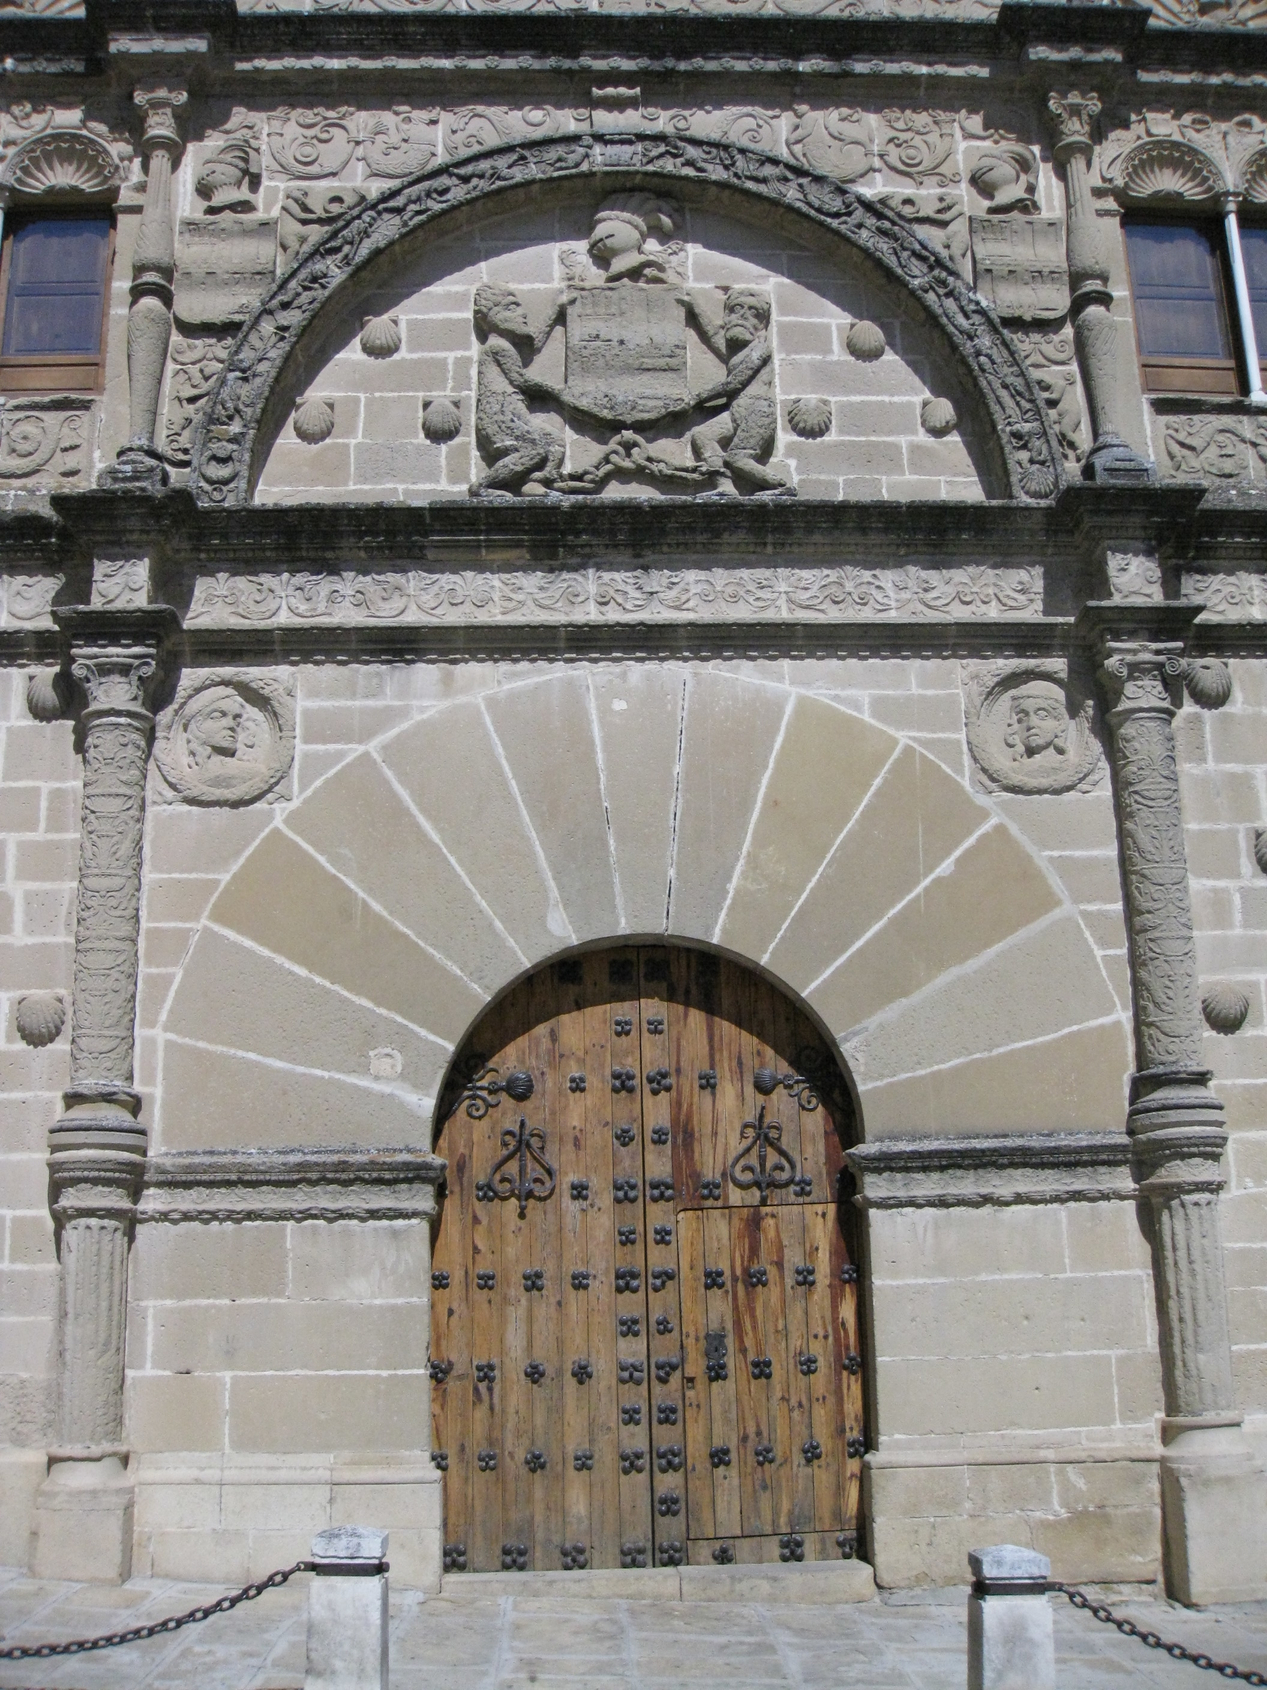arco-medio-punto: (394, 904, 908, 1234)
